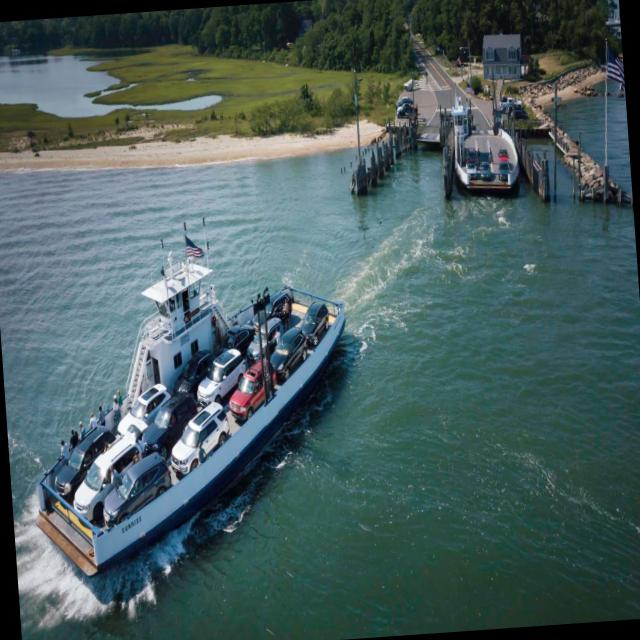boat: (12, 229, 380, 605)
